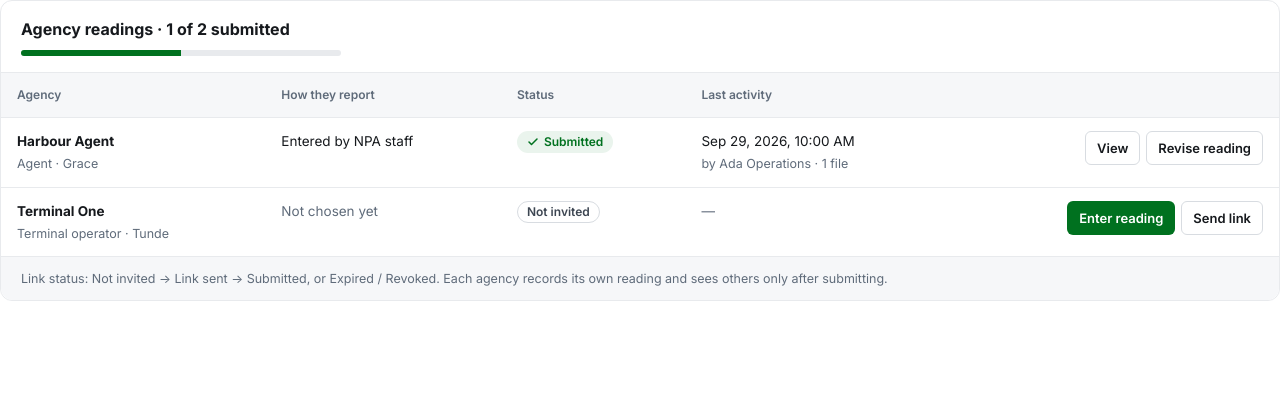
it: agency readings tracker › explains when secure links are not enabled
Click the button "Send link": (1222, 218) [1181,201,1263,235]
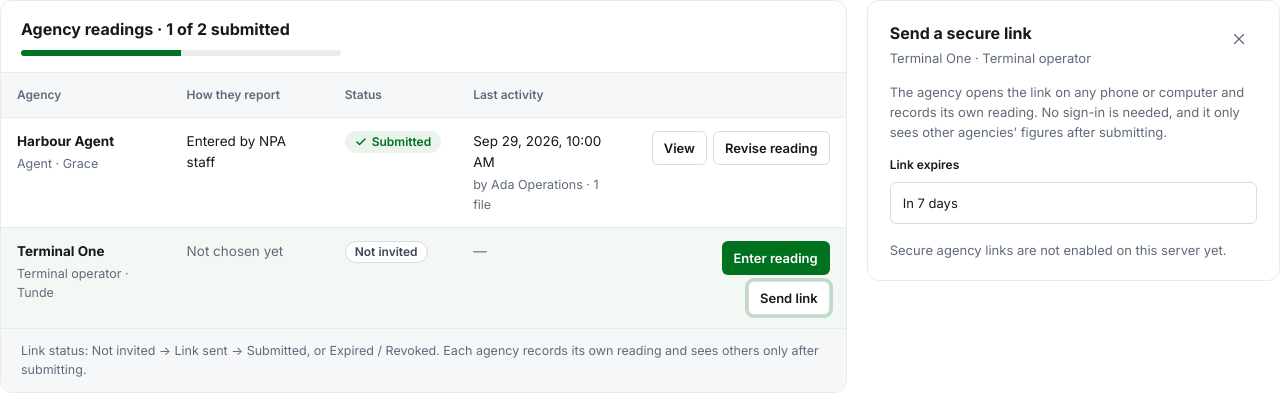
Result: the text "Secure agency links are not enabled on this server yet." is shown at [890,240,1257,260]
